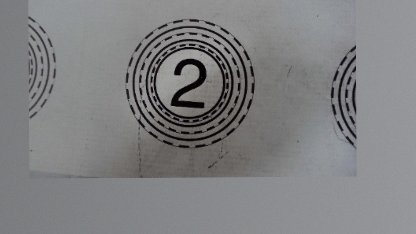2r: (123, 16, 255, 150)
